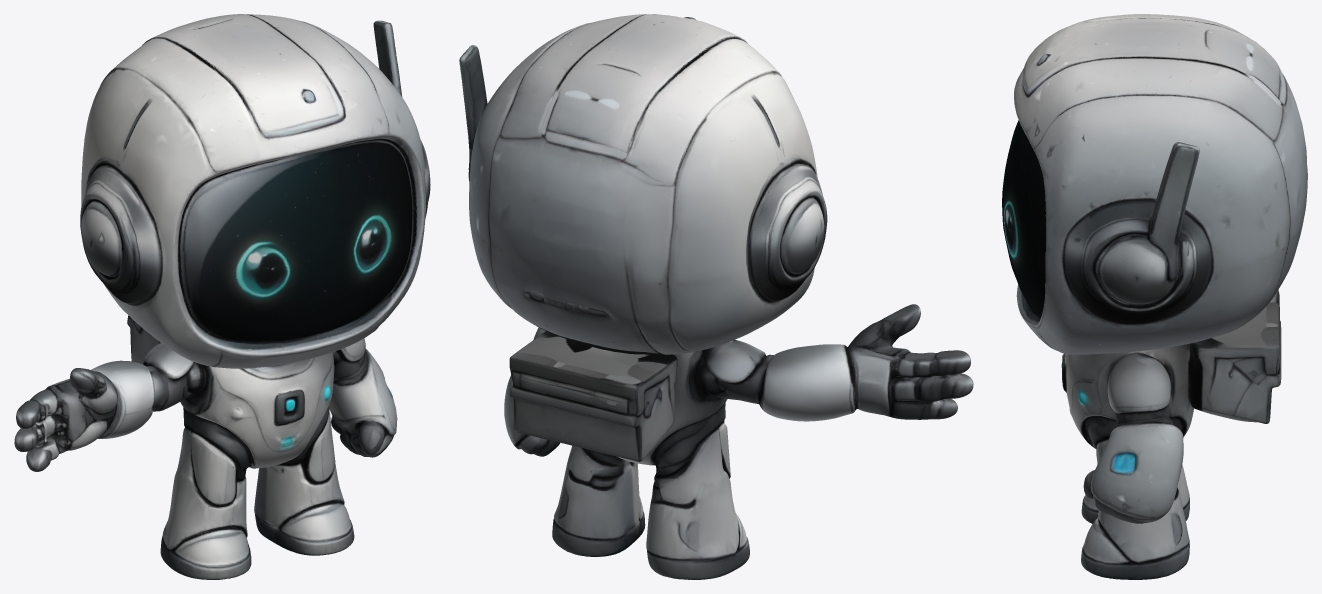
The model's file is robot_droite.glb.
The picture shows the model from 3 angles, left to right: view 1: azimuth 30°, elevation 25°; view 2: azimuth 150°, elevation 25°; view 3: azimuth 270°, elevation 25°; orthographic projection. The views are drawn at different scales.
Visible parts, largest first — view 1: geometry_0; view 2: geometry_0; view 3: geometry_0.
Boxes of the visible parts, x1=… form: geometry_0: x1=14, y1=14, x2=430, y2=579; geometry_0: x1=459, y1=14, x2=973, y2=579; geometry_0: x1=1002, y1=14, x2=1307, y2=579.
Size of the model in its own units: 0.9226 by 0.9999 by 0.5526.
Materials: 1 (1 with a texture image).
